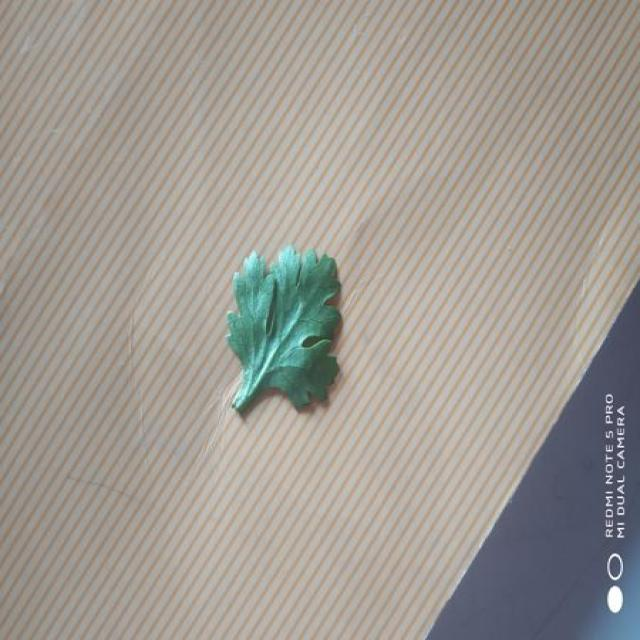coriender: (227, 246, 342, 414)
